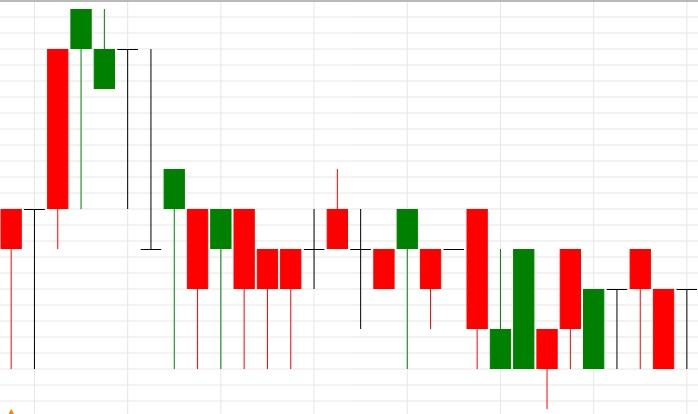bullish_engulfing_rise: (69, 9, 256, 369)
hammer_rise: (69, 9, 233, 368), (69, 9, 186, 369)
hanging_man_fall: (0, 9, 92, 370), (582, 248, 651, 369)
